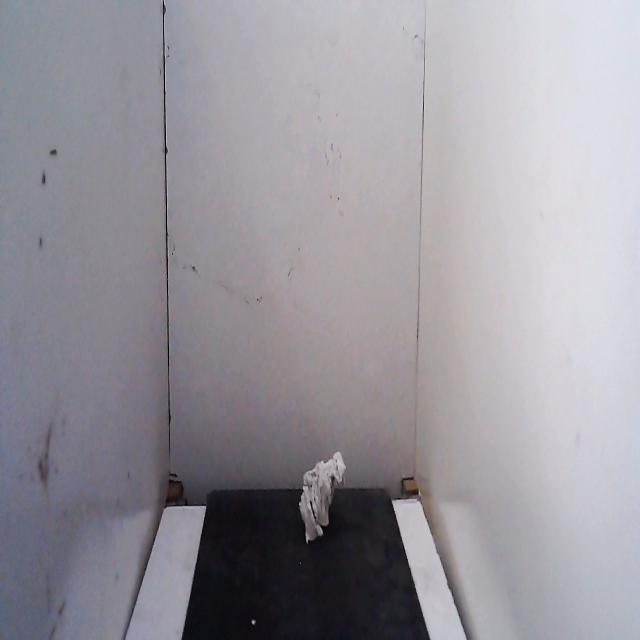paper: (294, 435, 350, 555)
